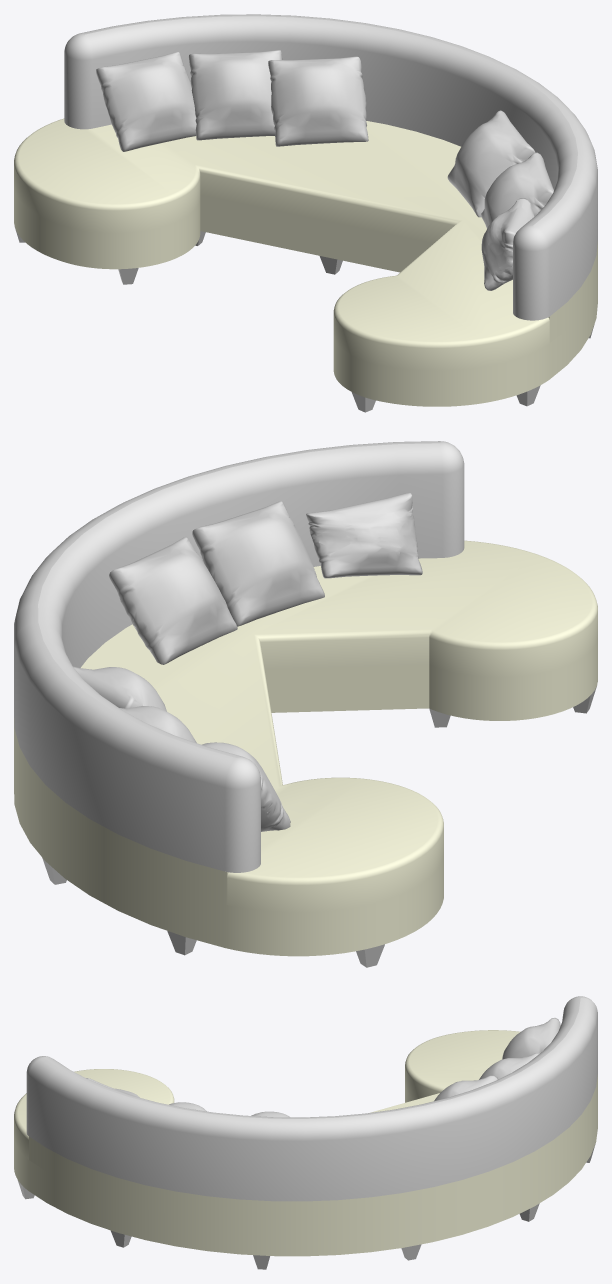
The model's file is Sofa.fbx.
3 views of the same model, one above another, from view 1: azimuth 30°, elevation 25°; view 2: azimuth 150°, elevation 25°; view 3: azimuth 270°, elevation 25° (orthographic). The views are drawn at different scales.
Visible parts, largest first — view 1: Group_002, Group_001, Pillow almofada_001, Pillow almofada_004, Pillow almofada_003, Pillow almofada_002, Pillow almofada_005, Pillow almofada#1_001; view 2: Group_002, Group_001, Pillow almofada_005, Pillow almofada_002, Pillow almofada#1_001, Pillow almofada_001, Pillow almofada_004, Pillow almofada_003; view 3: Group_001, Group_002, Pillow almofada_004, Pillow almofada_003, Pillow almofada_001.
Part boxes in pixels (x1,y1,x2,y2): Group_002: (14, 118, 597, 406); Group_001: (64, 14, 597, 320); Pillow almofada_001: (268, 56, 368, 146); Pillow almofada_004: (96, 52, 196, 151); Pillow almofada_003: (189, 50, 282, 140); Pillow almofada_002: (447, 110, 535, 217); Pillow almofada_005: (481, 152, 553, 228); Pillow almofada#1_001: (481, 198, 534, 290); Group_002: (14, 540, 597, 956); Group_001: (14, 441, 464, 872); Pillow almofada_005: (192, 501, 324, 626); Pillow almofada_002: (109, 537, 237, 664); Pillow almofada#1_001: (306, 493, 422, 578); Pillow almofada_001: (73, 666, 166, 711); Pillow almofada_004: (202, 742, 290, 831); Pillow almofada_003: (119, 706, 196, 742); Group_001: (26, 996, 597, 1201); Group_002: (14, 1030, 597, 1256); Pillow almofada_004: (502, 1018, 560, 1059); Pillow almofada_003: (479, 1053, 539, 1079); Pillow almofada_001: (434, 1075, 498, 1100).
Size of the model in its own units: 2400 by 944 by 3428.
